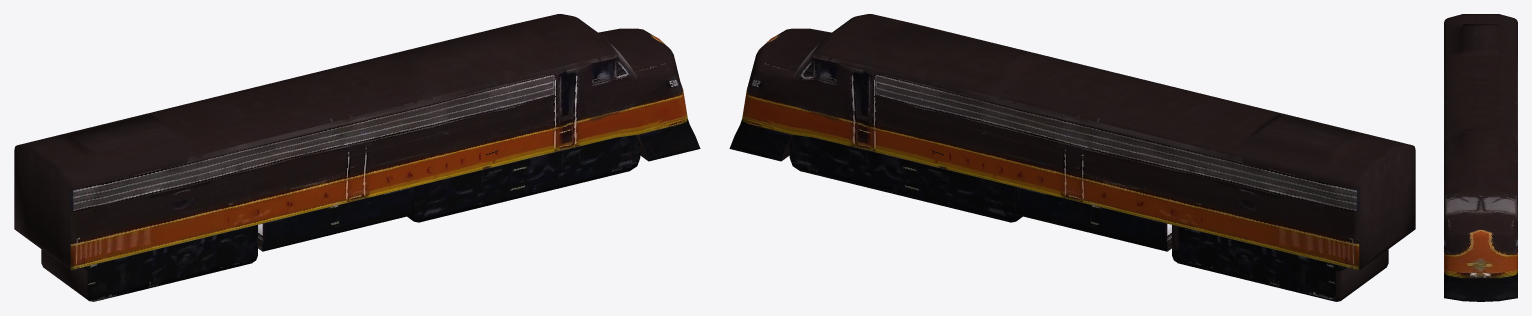
File: heritage-1953ea-model2.glb
3 renders of one model, left to right at view 1: azimuth 30°, elevation 25°; view 2: azimuth 150°, elevation 25°; view 3: azimuth 270°, elevation 25°, orthographic. The views are drawn at different scales.
Visible parts, largest first — view 1: train1953ea_model; view 2: train1953ea_model; view 3: train1953ea_model.
Boxes of the visible parts, x1,y1,x2,y2 form: train1953ea_model: [14, 14, 700, 301]; train1953ea_model: [729, 14, 1415, 301]; train1953ea_model: [1444, 14, 1517, 301].
Size of the model in its own units: 21.41 by 4.45 by 3.24.
Materials: 1 (1 with a texture image).
